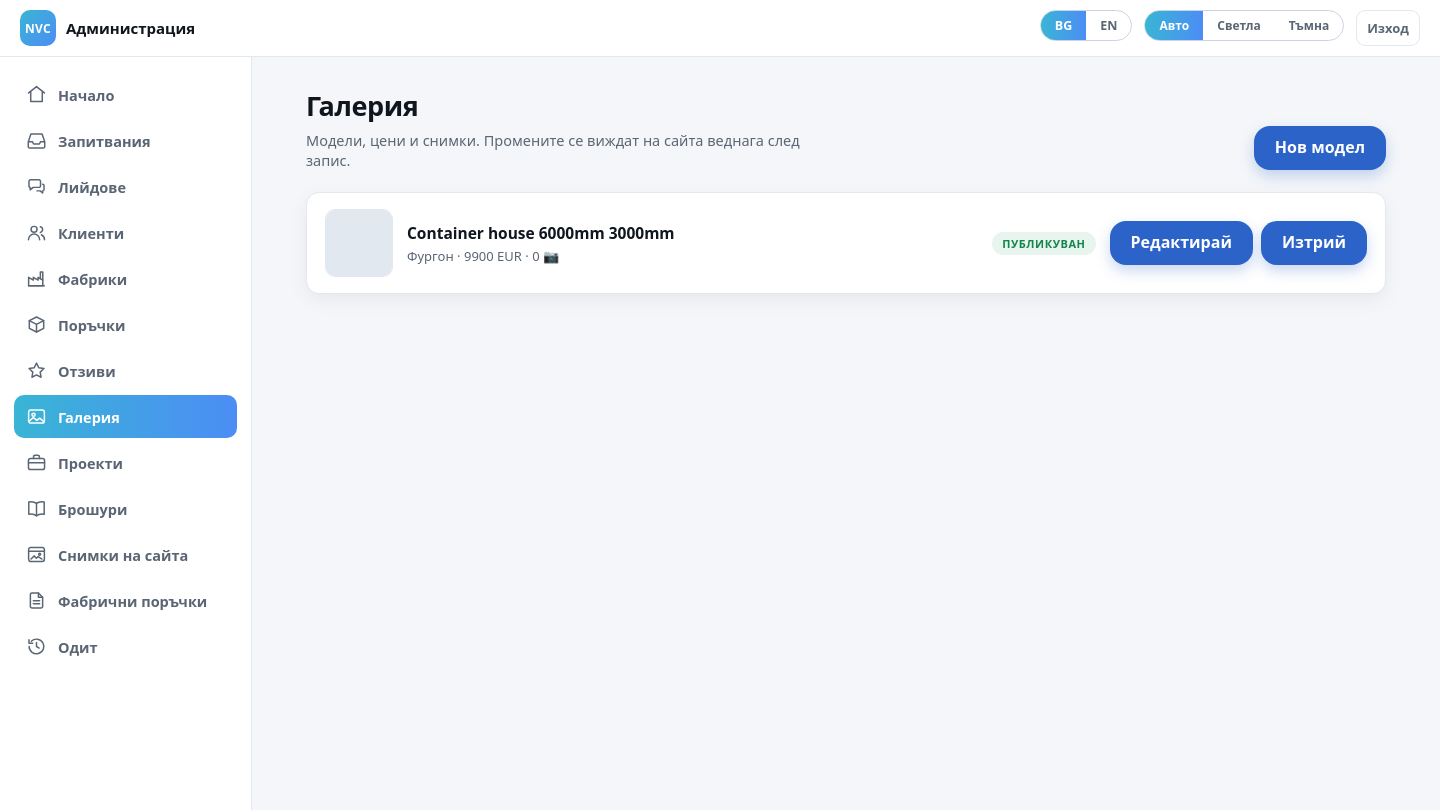
Test: AdminGalleryPage — old addresses (#37) › says plainly when a model has never moved
Click the button "Редактирай" at coordinates (1181, 243), box 1110,221 -> 1253,265
(page scrolled)
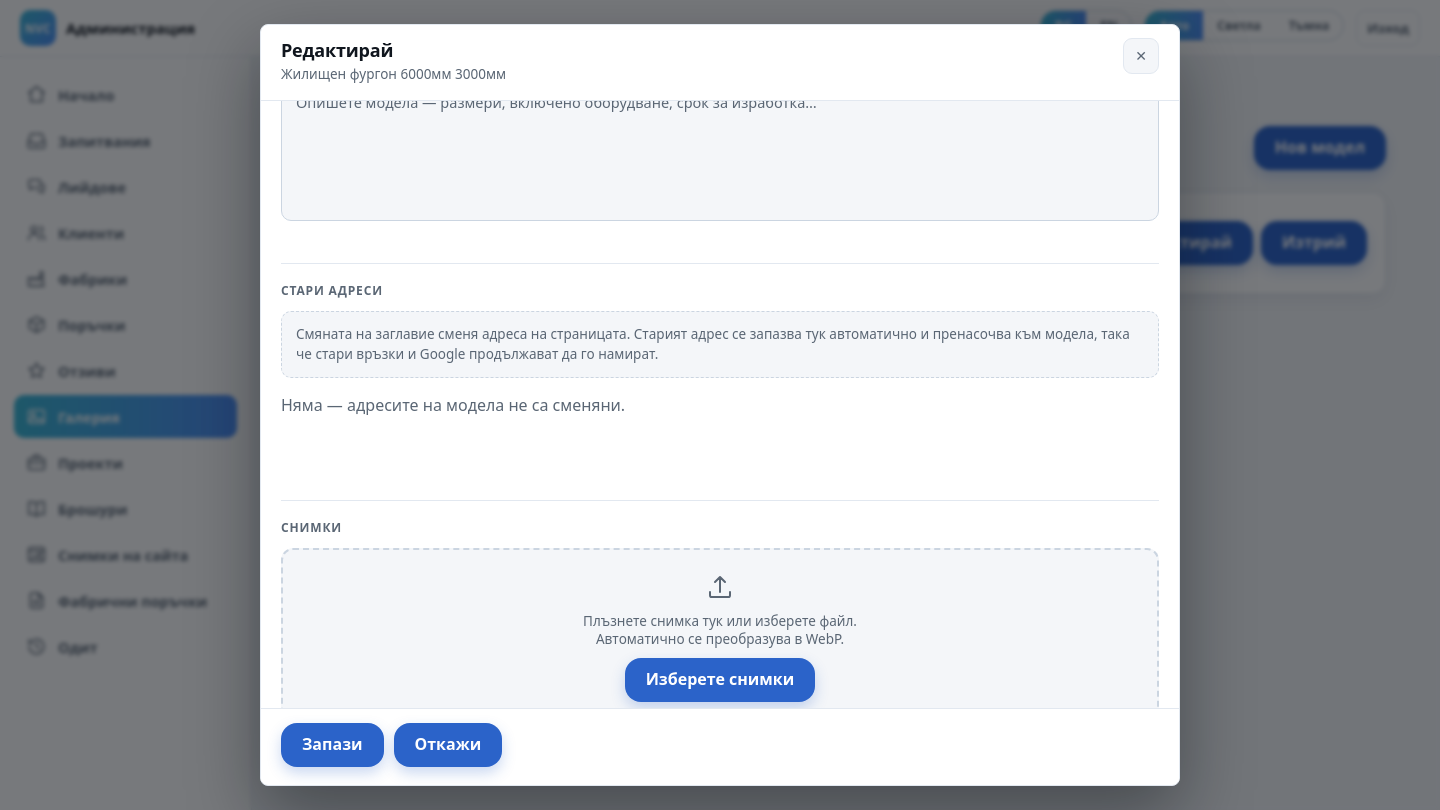
Expected: the text "Няма — адресите на модела не са сменяни." is shown, 281,394 -> 625,416
